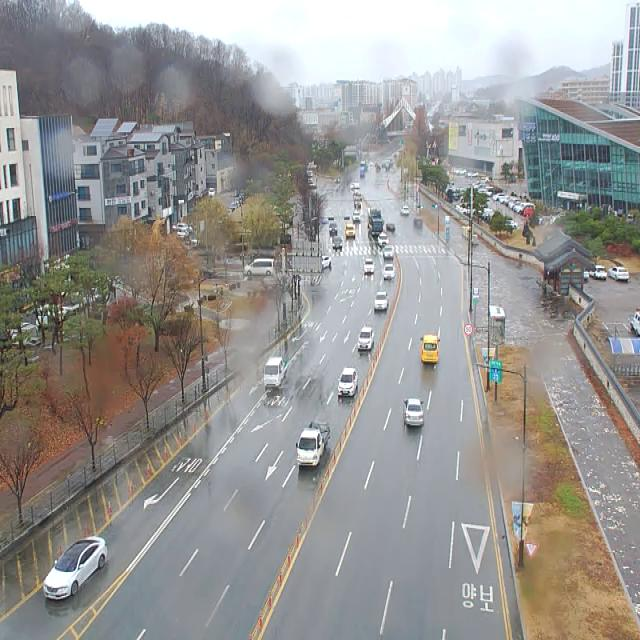Car: (44, 536, 107, 600), (338, 368, 358, 397), (404, 398, 424, 427), (420, 335, 440, 362), (245, 258, 274, 276), (358, 326, 374, 349), (608, 267, 629, 281), (375, 292, 388, 313), (588, 266, 607, 280), (384, 264, 394, 280), (364, 259, 374, 274), (322, 256, 332, 271), (345, 224, 355, 239), (177, 226, 189, 238), (383, 246, 393, 260), (378, 233, 388, 245), (333, 237, 342, 249), (329, 222, 337, 232), (353, 212, 360, 222), (386, 223, 396, 230), (209, 187, 215, 197), (401, 207, 409, 214)
Truck: (296, 422, 330, 466), (264, 357, 288, 386), (367, 209, 384, 236), (630, 309, 640, 336)
